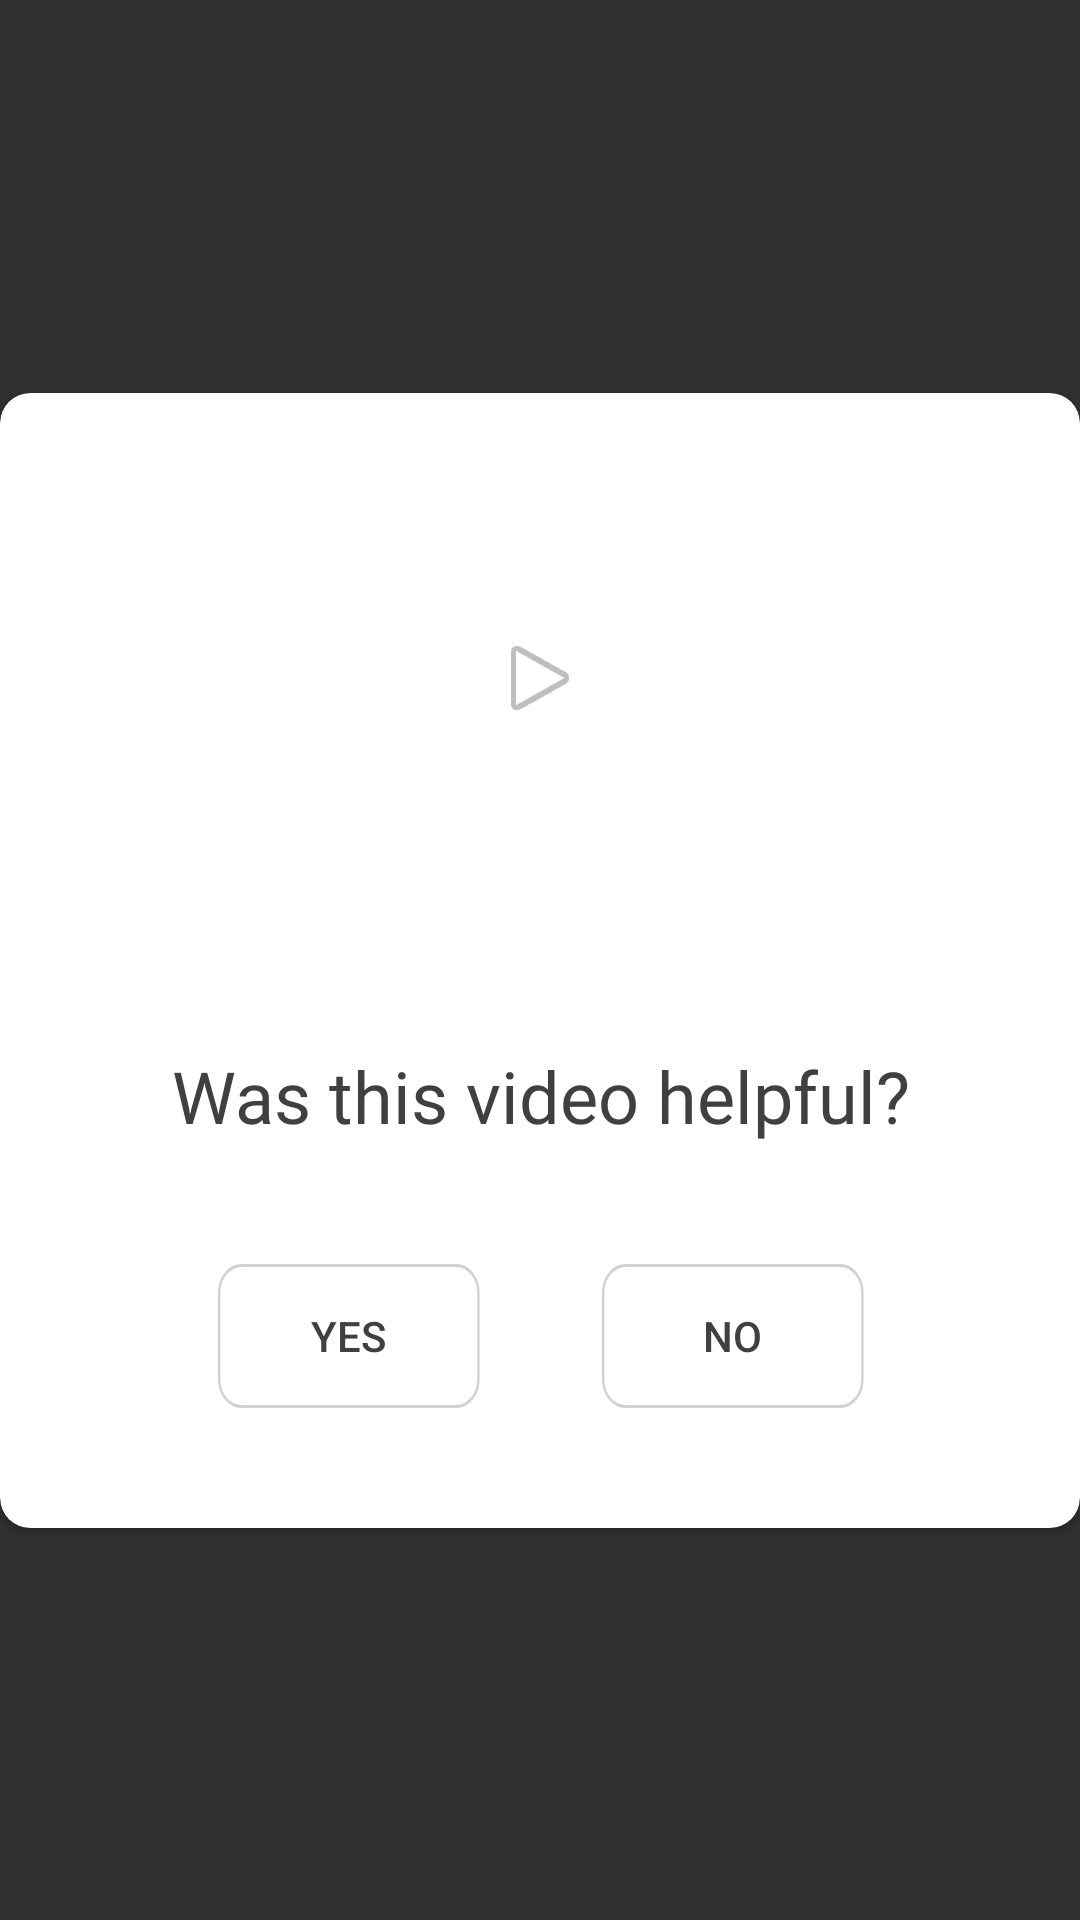

Icons on this 1080*1920 Android screen, each with the point to tap as (x,y):
play: (540,678)
